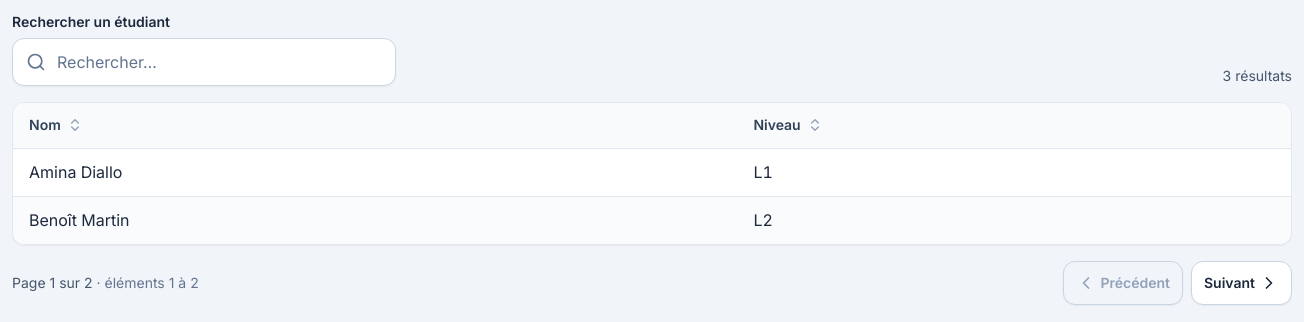
it: DataTable › pagine les résultats et désactive les bornes
The width and height of the screenshot is (1304, 322).
Expected: the text "Page 1 sur 2 · éléments 1 à 2" is shown, [12, 273, 199, 293]
Expected: the button with aria-label "Page précédente" is disabled, [1064, 261, 1183, 305]
What coordinates should you click on to do the following:
click the button with aria-label "Page suivante"
I would click on:
 (1242, 283)
Its box is [1191, 261, 1292, 305].
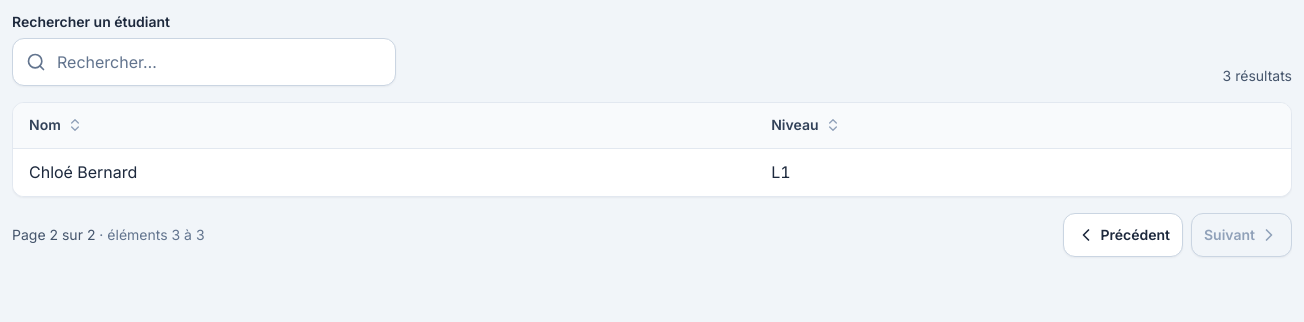
Now the text "Page 2 sur 2 · éléments 3 à 3" is shown, box [12, 225, 205, 245]
Now the button with aria-label "Page suivante" is disabled, box [1191, 213, 1292, 257]
Now the text "Chloé Bernard" is shown, box [13, 149, 755, 196]
